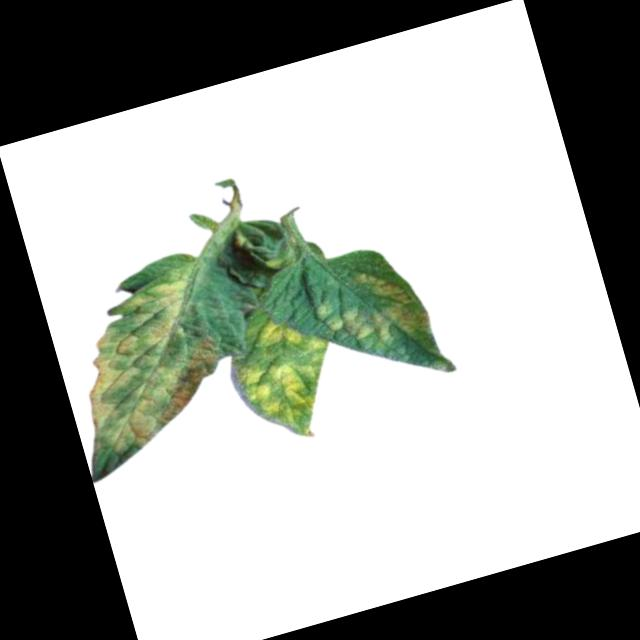Leaf_Mold: (46, 263, 240, 463), (220, 306, 349, 448), (312, 257, 433, 361)
